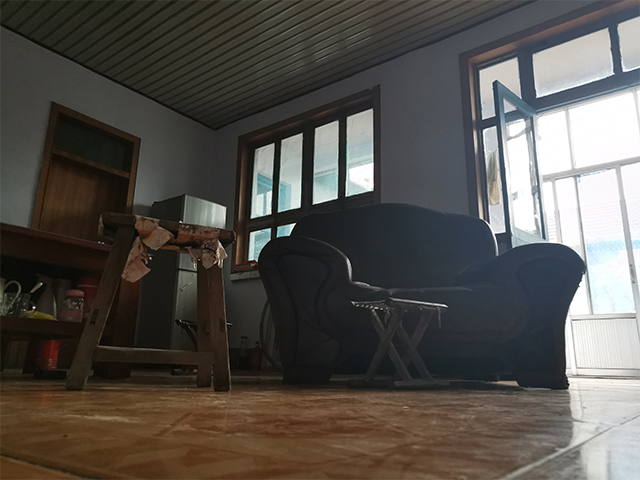sofa: (257, 200, 589, 392)
stool: (62, 209, 239, 393), (344, 296, 455, 392)
table: (1, 221, 148, 382)
